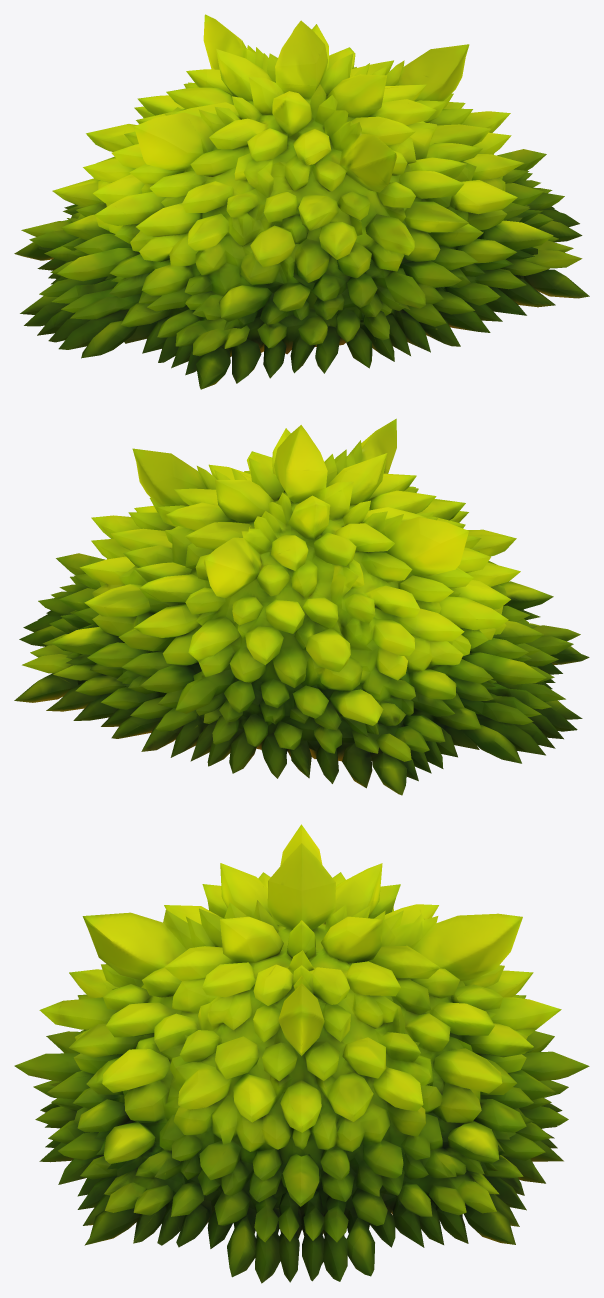
File: arbusti.fbx
The picture shows the model from 3 angles, top to bottom: view 1: azimuth 30°, elevation 25°; view 2: azimuth 150°, elevation 25°; view 3: azimuth 270°, elevation 25°; orthographic projection. The views are drawn at different scales.
Parts seen in each view (by area): view 1: model; view 2: model; view 3: model.
Part boxes in pixels (box(x1,y1,x2,y2)): model: box(14, 14, 589, 389); model: box(14, 418, 589, 795); model: box(14, 824, 589, 1283).
Bounding box in the file's own units: 188 × 88.51 × 156.
